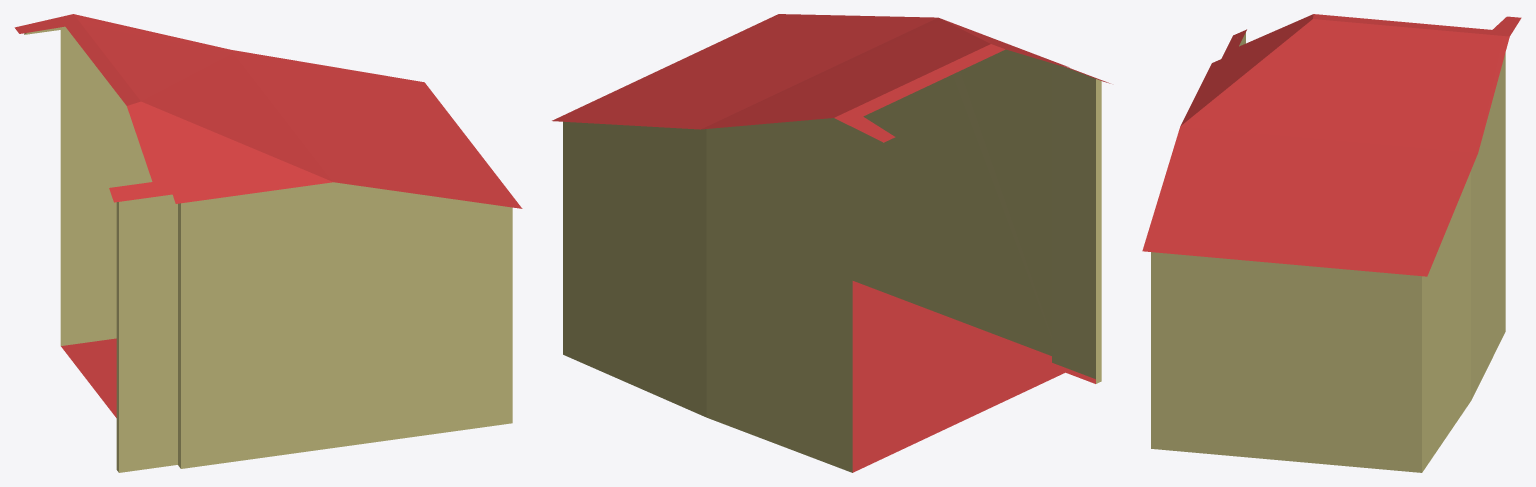
3 views of the same model, side by side, from view 1: azimuth 30°, elevation 25°; view 2: azimuth 150°, elevation 25°; view 3: azimuth 270°, elevation 25° (orthographic). The views are drawn at different scales.
Bounding box in the file's own units: 15.04 × 12.87 × 11.3.
